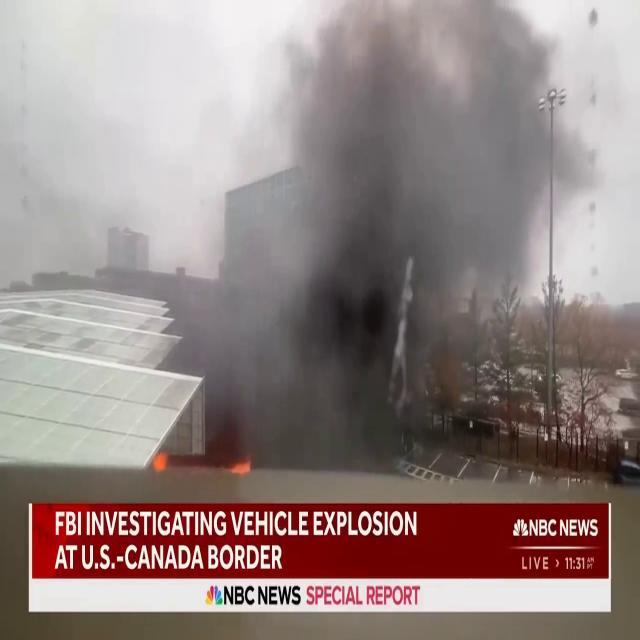Smoke: (170, 0, 600, 477)
